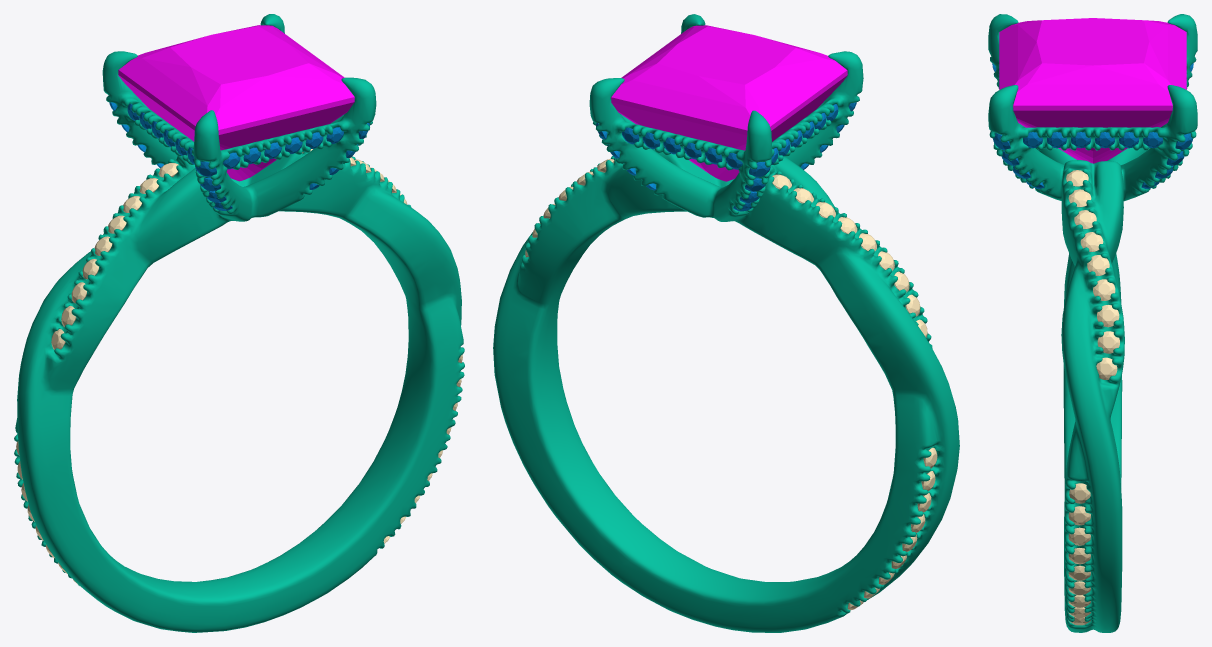
The model's file is BE1D1234_PR_200ct_RENDER.glb.
3 renders of one model, left to right at view 1: azimuth 30°, elevation 25°; view 2: azimuth 150°, elevation 25°; view 3: azimuth 270°, elevation 25°, orthographic.
Visible parts, largest first — view 1: Metal 01, CS_Diamond_Princess; view 2: Metal 01, CS_Diamond_Princess; view 3: Metal 01, CS_Diamond_Princess, Diamond_Round_Gem_SH.010, Diamond_Round_Gem_SH.011, Diamond_Round_Gem_SH.012, Diamond_Round_Gem_SH.009, Diamond_Round_Gem_SH.013, Diamond_Round_Gem_SH.014, Diamond_Round_Gem_SH, Diamond_Round_Gem_SH.015, Diamond_Round_Gem_SH.001.
Part boxes in pixels (x1,y1,x2,y2): Metal 01: (14, 14, 464, 632); CS_Diamond_Princess: (118, 25, 354, 181); Metal 01: (493, 14, 959, 632); CS_Diamond_Princess: (611, 25, 847, 181); Metal 01: (988, 14, 1197, 632); CS_Diamond_Princess: (999, 18, 1186, 163); Diamond_Round_Gem_SH.010: (1097, 331, 1119, 353); Diamond_Round_Gem_SH.011: (1097, 305, 1119, 327); Diamond_Round_Gem_SH.012: (1093, 279, 1115, 300); Diamond_Round_Gem_SH.009: (1096, 357, 1117, 379); Diamond_Round_Gem_SH.013: (1087, 255, 1109, 275); Diamond_Round_Gem_SH.014: (1080, 232, 1103, 251); Diamond_Round_Gem_SH: (1069, 483, 1090, 503); Diamond_Round_Gem_SH.015: (1074, 210, 1096, 229); Diamond_Round_Gem_SH.001: (1068, 506, 1090, 525).
Bounding box in the file's own units: 20.71 × 25.05 × 8.38.
